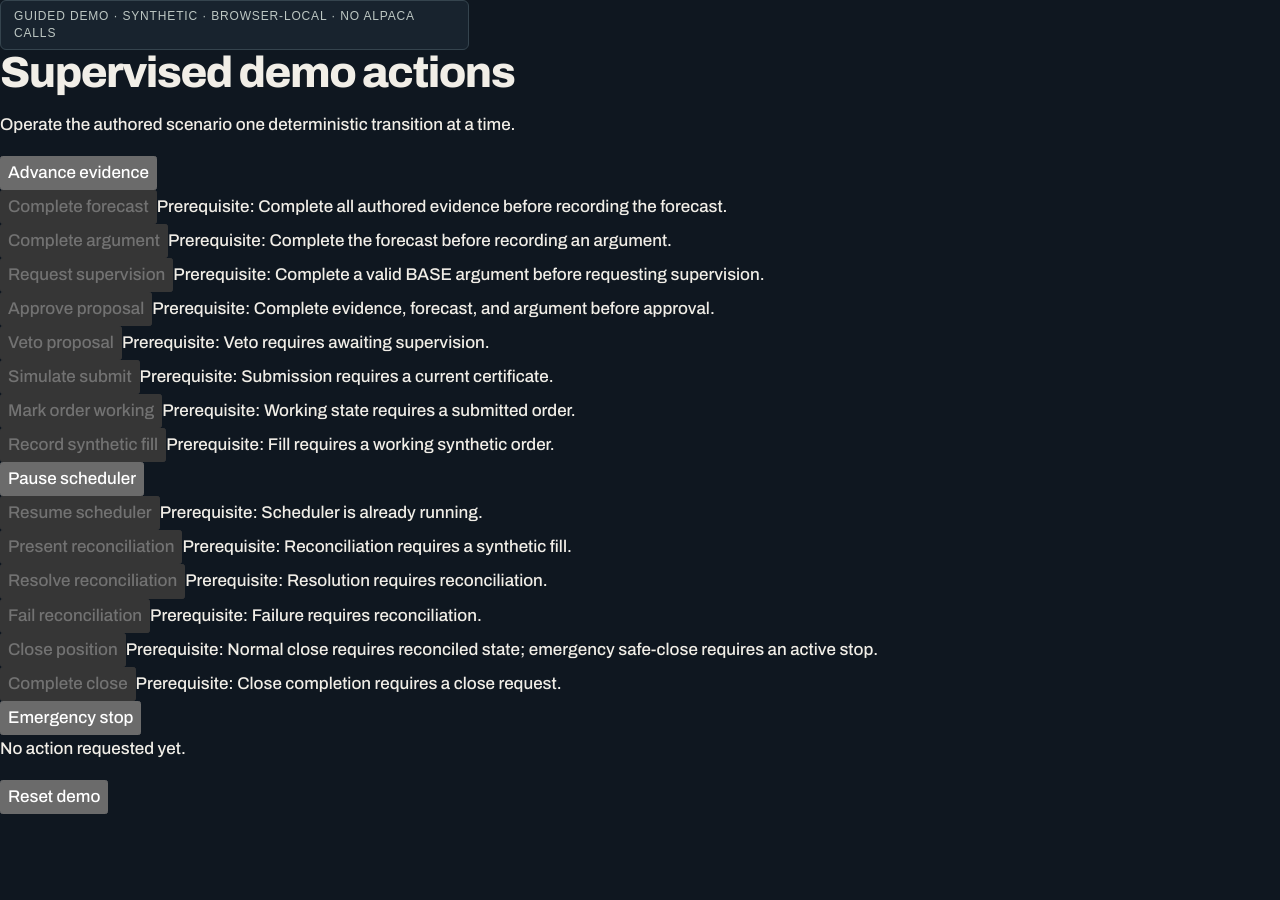
Test case: simulator components › announces reset completion in the live feedback region
Click the button "Advance evidence" at (78, 173), box [0,156,157,190]
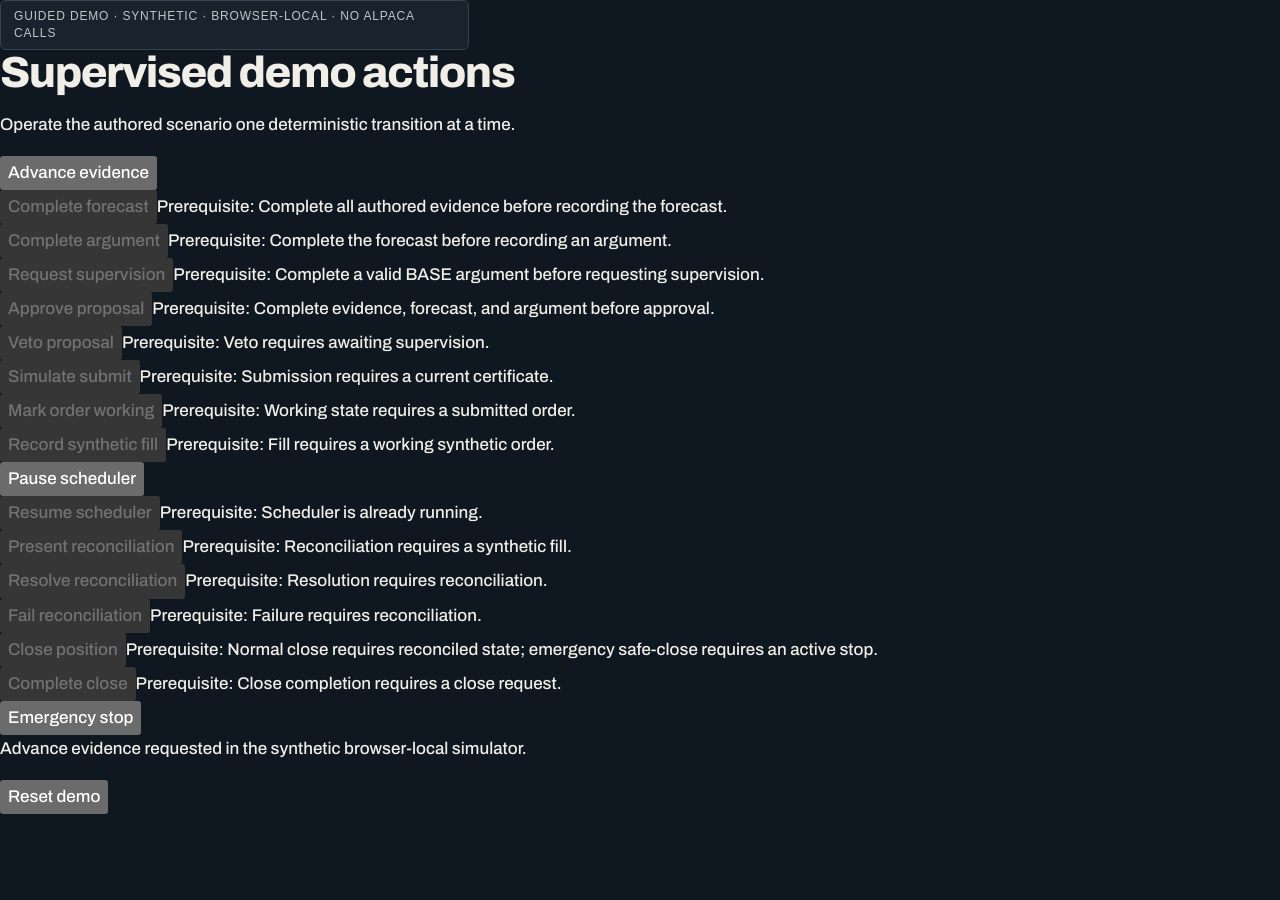
Result: the message shows "Advance evidence requested" at [0,739,527,758]
Click the button "Reset demo" at (54, 797), box [0,780,108,814]
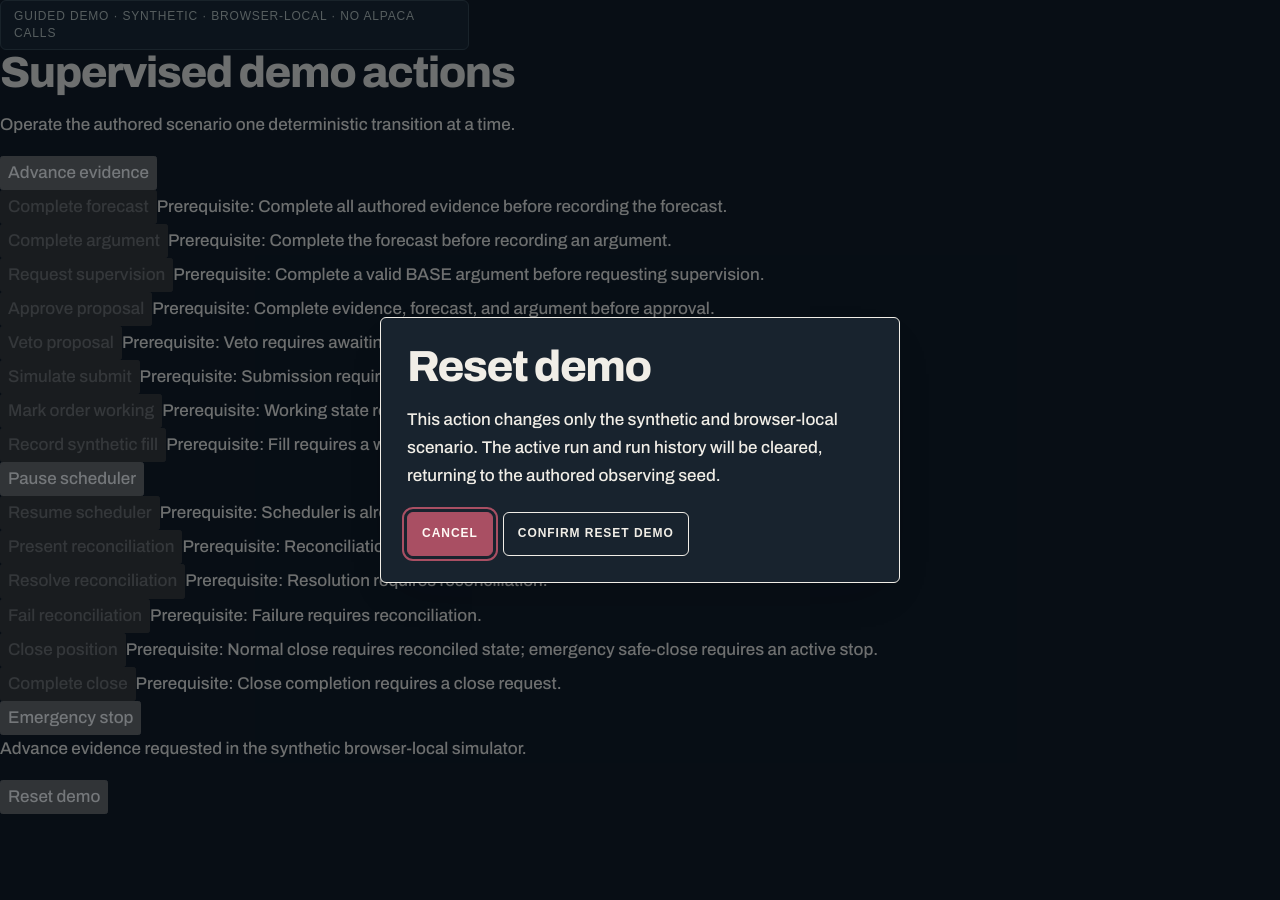
Click the button "Confirm Reset demo" at (596, 534), box [503,512,689,556]
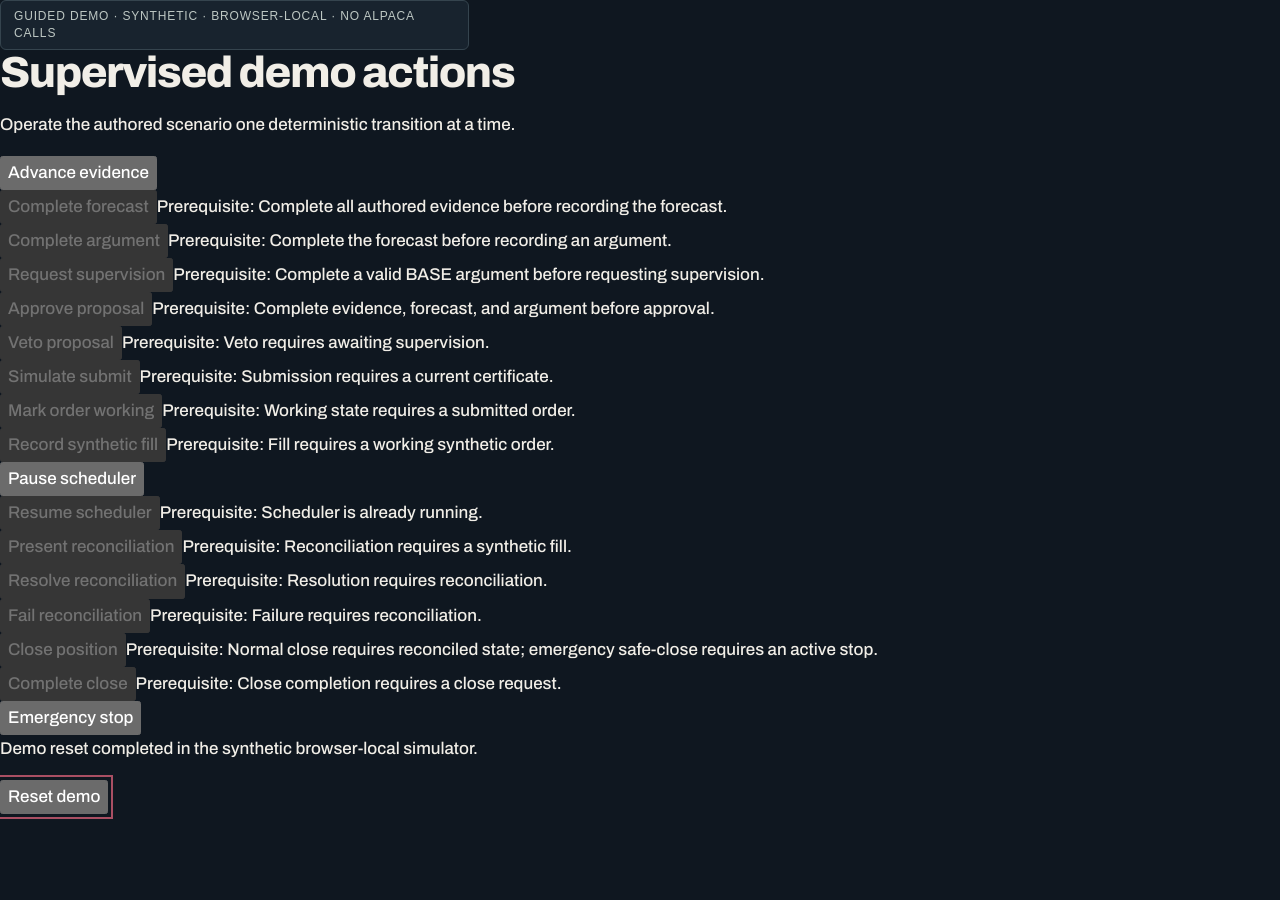
Result: the message shows "Demo reset completed in the synthetic browser-local simulator" at [0,739,478,758]
